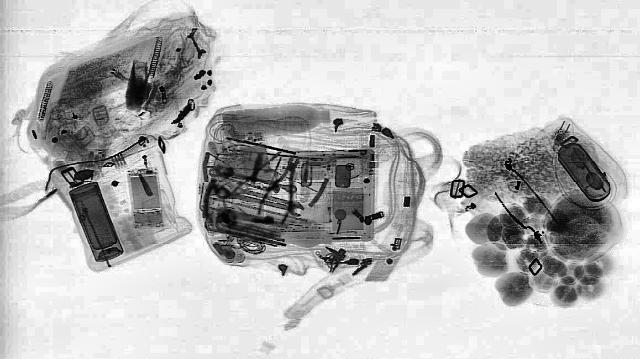Pliers: (251, 154, 311, 224), (262, 156, 294, 192)
